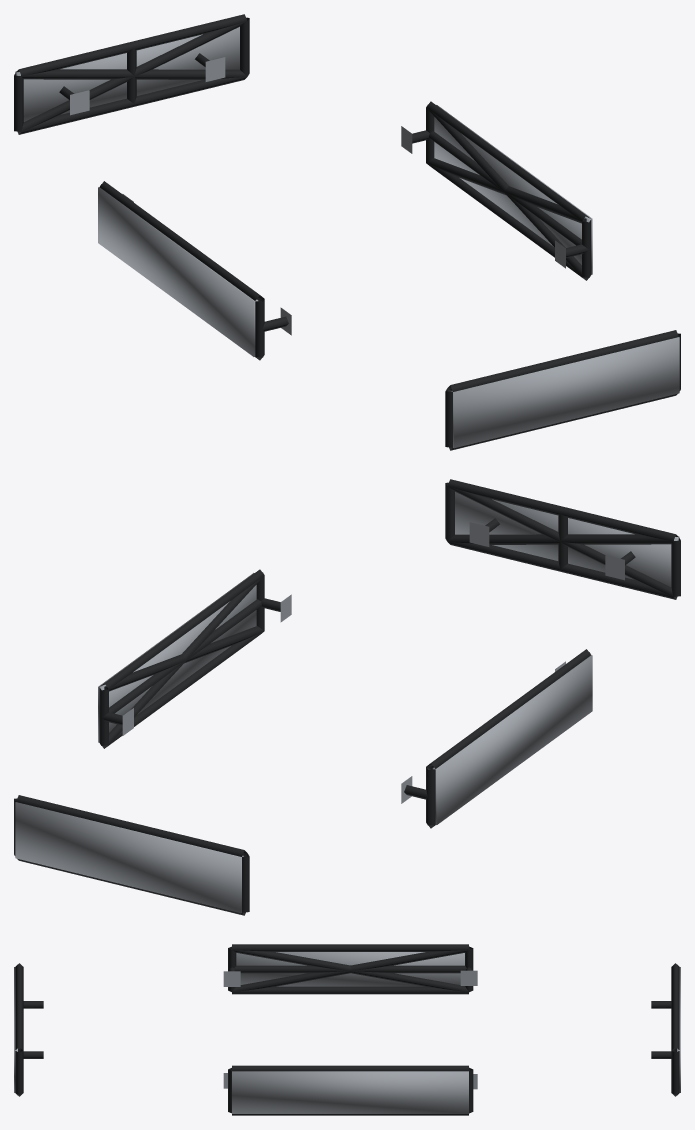
The model's file is feldhaus_campina_protecao.glb.
3 views of the same model, one above another, from view 1: azimuth 30°, elevation 25°; view 2: azimuth 150°, elevation 25°; view 3: azimuth 270°, elevation 25° (orthographic). The views are drawn at different scales.
Visible parts, largest first — view 1: Protection_front_Level3_Details, Protection_left_Level3_Details, Protection_rear_Level1_Details, Protection_rear_Level3_Details, Protection_right_Level1_Details, Protection_rear_Level2_Details, Protection_right_Level2_Details, Protection_right_Level3_Details, Protection_front_Level1_Details, Protection_left_Level1_Details; view 2: Protection_rear_Level3_Details, Protection_left_Level3_Details, Protection_front_Level1_Details, Protection_front_Level3_Details, Protection_right_Level1_Details, Protection_front_Level2_Details, Protection_right_Level2_Details, Protection_right_Level3_Details, Protection_rear_Level1_Details, Protection_left_Level1_Details; view 3: Protection_right_Level3_Details, Protection_left_Level2_Details, Protection_left_Level1_Details, Protection_left_Level3_Details, Protection_right_Level1_Details, Protection_rear_Level1_Details, Protection_front_Level1_Details.
Boxes of the visible parts, x1,y1,x2,y2 form: Protection_front_Level3_Details: [451, 337, 679, 448]; Protection_left_Level3_Details: [98, 187, 258, 356]; Protection_rear_Level1_Details: [14, 14, 249, 134]; Protection_rear_Level3_Details: [15, 27, 239, 121]; Protection_right_Level1_Details: [401, 101, 591, 280]; Protection_rear_Level2_Details: [16, 21, 246, 133]; Protection_right_Level2_Details: [426, 108, 590, 280]; Protection_right_Level3_Details: [434, 105, 592, 274]; Protection_front_Level1_Details: [445, 330, 680, 450]; Protection_left_Level1_Details: [99, 181, 291, 360]; Protection_rear_Level3_Details: [15, 802, 243, 913]; Protection_left_Level3_Details: [432, 655, 592, 824]; Protection_front_Level1_Details: [445, 479, 680, 599]; Protection_front_Level3_Details: [455, 492, 679, 586]; Protection_right_Level1_Details: [99, 569, 291, 748]; Protection_front_Level2_Details: [448, 486, 678, 598]; Protection_right_Level2_Details: [100, 576, 264, 748]; Protection_right_Level3_Details: [98, 573, 256, 742]; Protection_rear_Level1_Details: [14, 795, 249, 915]; Protection_left_Level1_Details: [401, 649, 590, 828]; Protection_right_Level3_Details: [232, 1071, 468, 1113]; Protection_left_Level2_Details: [231, 947, 469, 992]; Protection_left_Level1_Details: [223, 944, 477, 994]; Protection_left_Level3_Details: [236, 952, 464, 986]; Protection_right_Level1_Details: [223, 1065, 477, 1115]; Protection_rear_Level1_Details: [651, 963, 679, 1096]; Protection_front_Level1_Details: [15, 963, 43, 1096].
Size of the model in its own units: 1.91 by 0.354 by 4.28.
1 material, 1 textured.
